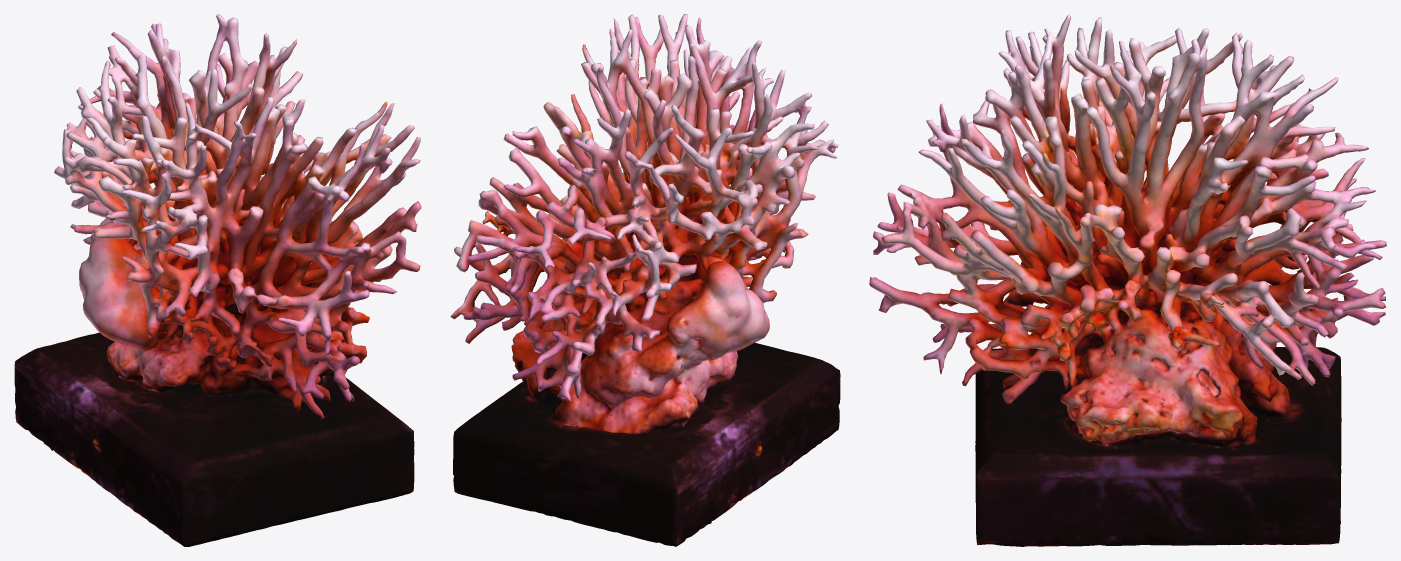
File: Coral_1.fbx
3 views of the same model, side by side, from view 1: azimuth 30°, elevation 25°; view 2: azimuth 150°, elevation 25°; view 3: azimuth 270°, elevation 25° (orthographic). The views are drawn at different scales.
Parts seen in each view (by area): view 1: Mesh_0; view 2: Mesh_0; view 3: Mesh_0.
Boxes of the visible parts, x1,y1,x2,y2 form: Mesh_0: (14,14,421,546); Mesh_0: (450,14,840,546); Mesh_0: (869,14,1386,546).
Bounding box in the file's own units: 12480 × 17924 × 18114.
